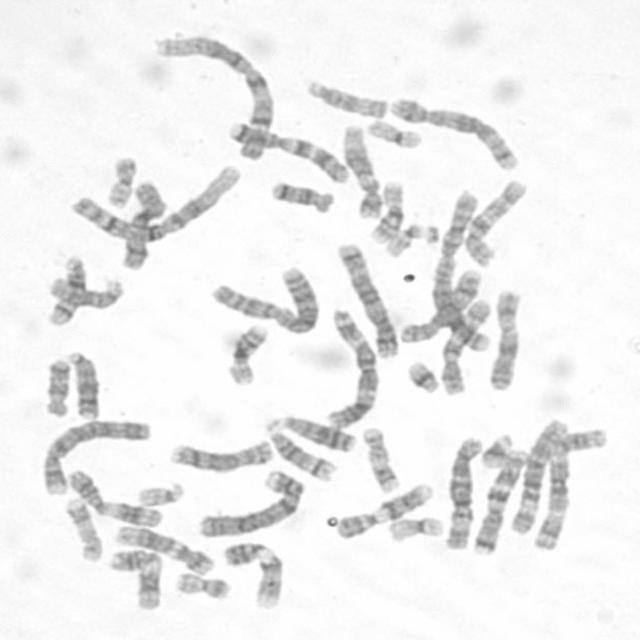A1: (148, 29, 277, 162), (64, 158, 242, 243)
A2: (428, 181, 493, 353), (204, 259, 321, 335)
A3: (526, 420, 610, 551), (319, 302, 382, 428)
B4: (34, 411, 153, 497), (190, 463, 306, 539)
B5: (384, 90, 521, 172), (329, 234, 401, 360)
C10: (458, 172, 528, 268), (433, 292, 493, 398)
C11: (60, 463, 165, 529), (103, 542, 164, 612)
C12: (108, 519, 216, 576), (336, 118, 384, 220)
C6: (504, 413, 569, 536), (438, 430, 485, 552)
C7: (221, 114, 353, 184), (465, 443, 530, 556)
C8: (394, 262, 483, 344), (162, 433, 276, 473)
C9: (329, 476, 435, 540), (217, 534, 286, 610)
D13: (259, 409, 359, 454), (60, 344, 102, 420)
D14: (258, 412, 338, 483), (40, 248, 88, 327)
D15: (299, 72, 390, 119), (41, 269, 125, 310)
E16: (219, 316, 271, 386), (364, 173, 407, 244)
E17: (356, 420, 402, 494), (58, 492, 104, 562)
E18: (264, 173, 336, 214), (37, 351, 73, 418)
F19: (361, 111, 425, 150), (380, 509, 445, 544)
F20: (99, 149, 140, 209), (168, 565, 232, 600)
G21: (474, 426, 516, 470), (400, 354, 442, 394)
G22: (378, 217, 440, 259), (130, 476, 186, 507)
X: (114, 174, 169, 272), (482, 283, 524, 392)
